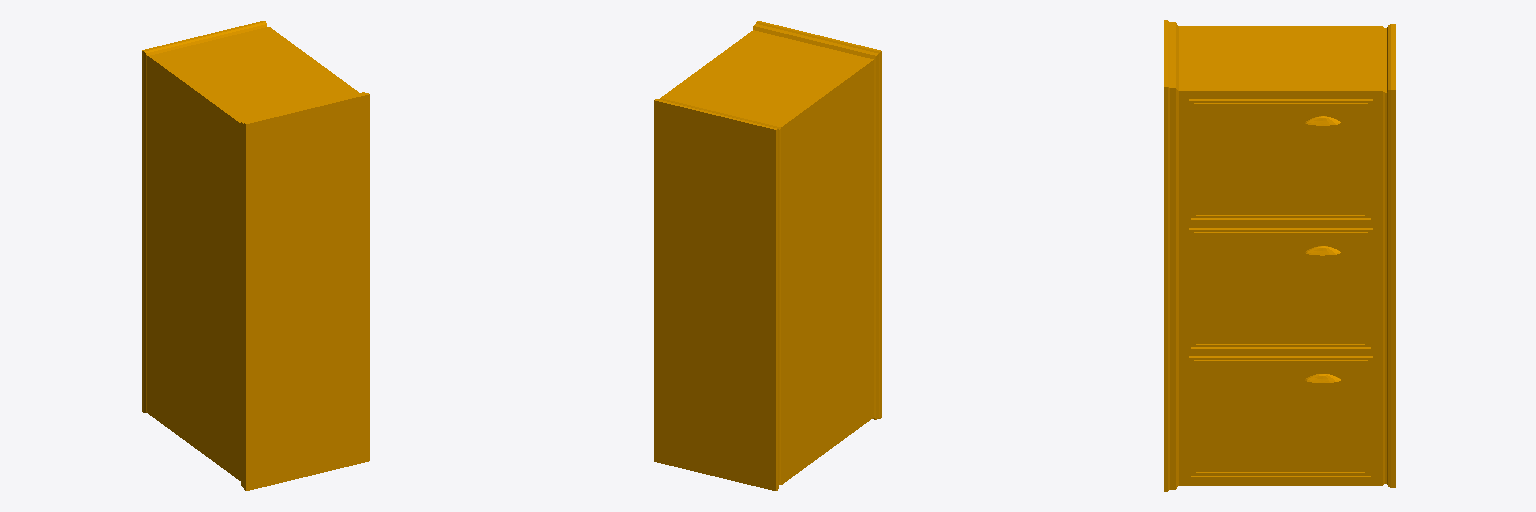
robot.urdf — pallet:
<?xml version="1.0"?>
<robot name="pallet">
 
    <link name="base_link">
        <visual>   <geometry> <mesh filename="cupboard.dae"/> </geometry> </visual>
        <collision><geometry> <mesh filename="cupboard.dae"/> </geometry> </collision>

        <inertial>
            <origin xyz="0 0 0" rpy="0 0 0"/>
            <mass value="5.0"/>
            <inertia ixx="1.0" ixy="0.0" ixz="0.0" iyy="1.0" iyz="0.0" izz="0.5"/>
        </inertial>

 </link>
 
</robot>

--- Facts derived from the render (not from the file) ---
3 views of the same robot in one strip: view 1: azimuth 30°, elevation 25°; view 2: azimuth 150°, elevation 25°; view 3: azimuth 270°, elevation 25° (orthographic).
Model pallet with 1 links and 0 joints (none), rooted at base_link, posed all joints at 0.
Visible links, largest first — view 1: base_link; view 2: base_link; view 3: base_link.
Link boxes in pixels (x1,y1,x2,y2): base_link: (142,21,369,490); base_link: (654,21,881,490); base_link: (1164,20,1395,491).
Bounding box of the posed robot: 0.4238 × 0.6011 × 1.16 m (x, y, z).
1 mesh visuals loaded from 1 distinct referenced files (1 Collada DAE).
